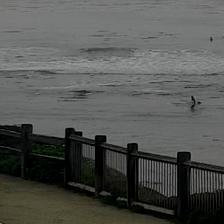surfer: (210, 36, 212, 41), (222, 34, 223, 41)
